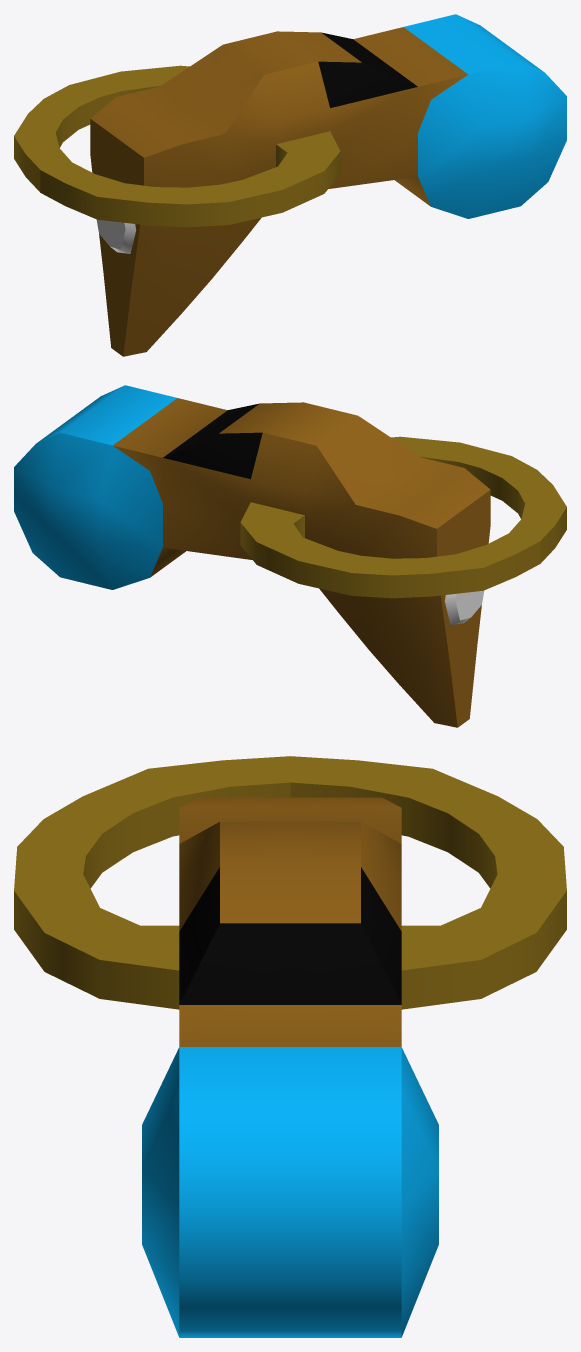
Rendered from Spaceship_Saturn.fbx.
3 views of the same model, one above another, from view 1: azimuth 30°, elevation 25°; view 2: azimuth 150°, elevation 25°; view 3: azimuth 270°, elevation 25° (orthographic). The views are drawn at different scales.
Visible parts, largest first — view 1: Cube; view 2: Cube; view 3: Cube.
Boxes of the visible parts, x1,y1,x2,y2 form: Cube: (14, 14, 566, 356); Cube: (14, 385, 566, 727); Cube: (14, 756, 566, 1337).
Bounding box in the file's own units: 1207 × 612 × 685.
